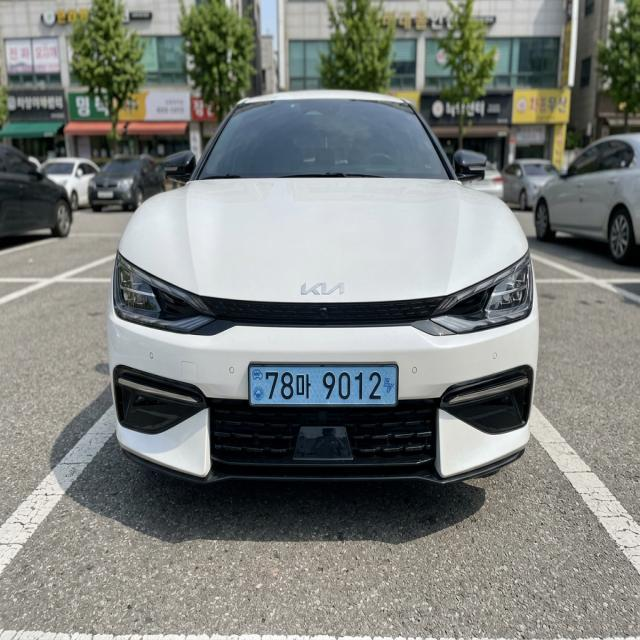car: (225, 348, 420, 421)
carev: (247, 364, 266, 411), (380, 363, 397, 408)
